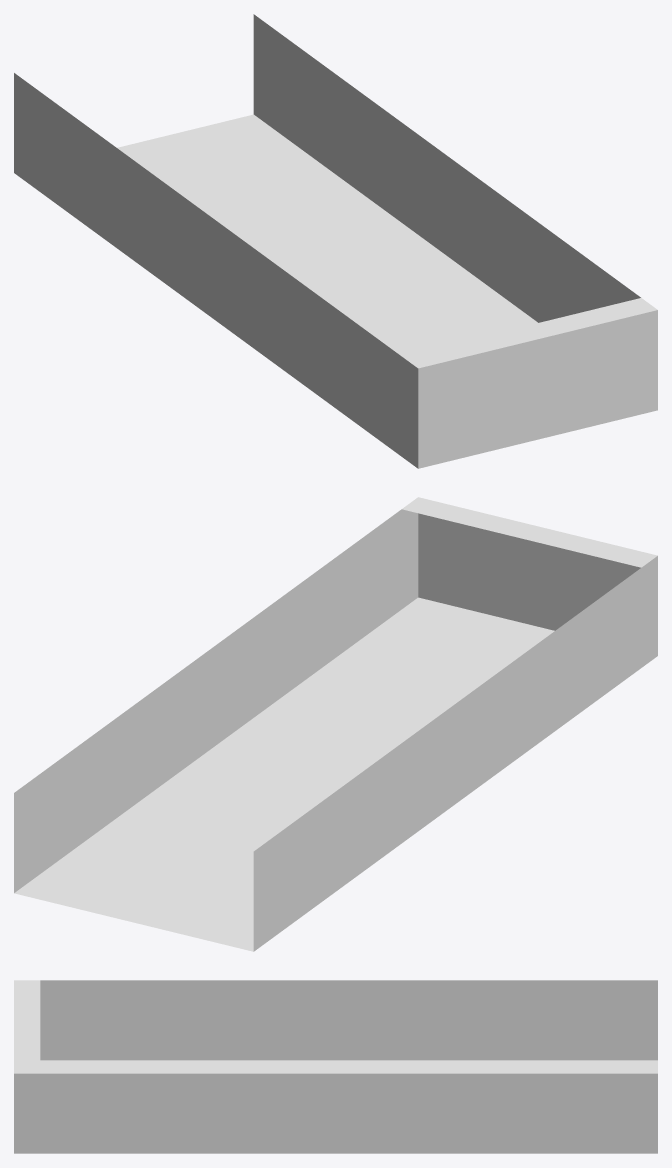
Rendered from M_WallTrim125x350White100-1.FBX.
3 renders of one model, top to bottom at view 1: azimuth 30°, elevation 25°; view 2: azimuth 150°, elevation 25°; view 3: azimuth 270°, elevation 25°, orthographic. The views are drawn at different scales.
Visible parts, largest first — view 1: M_WallTrim125x350White100-1; view 2: M_WallTrim125x350White100-1; view 3: M_WallTrim125x350White100-1.
Boxes of the visible parts, box(x1,y1,x2,y2) form: M_WallTrim125x350White100-1: box(14, 14, 657, 468); M_WallTrim125x350White100-1: box(14, 497, 657, 951); M_WallTrim125x350White100-1: box(14, 980, 657, 1153).
Size of the model in its own units: 1.25 by 0.5 by 3.65.
